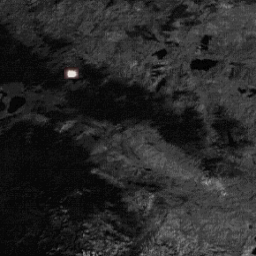Target: (66, 70, 78, 79)
